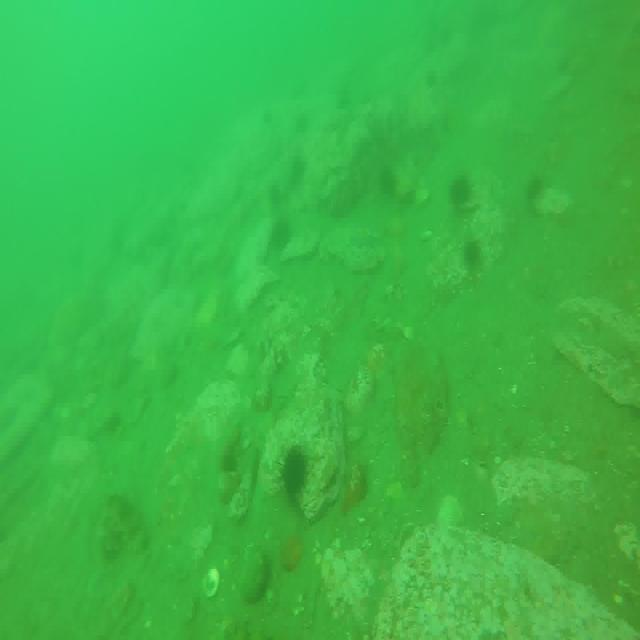echinus: (283, 446, 309, 496), (465, 240, 484, 275), (449, 176, 470, 206), (272, 216, 290, 247), (524, 175, 544, 200)
